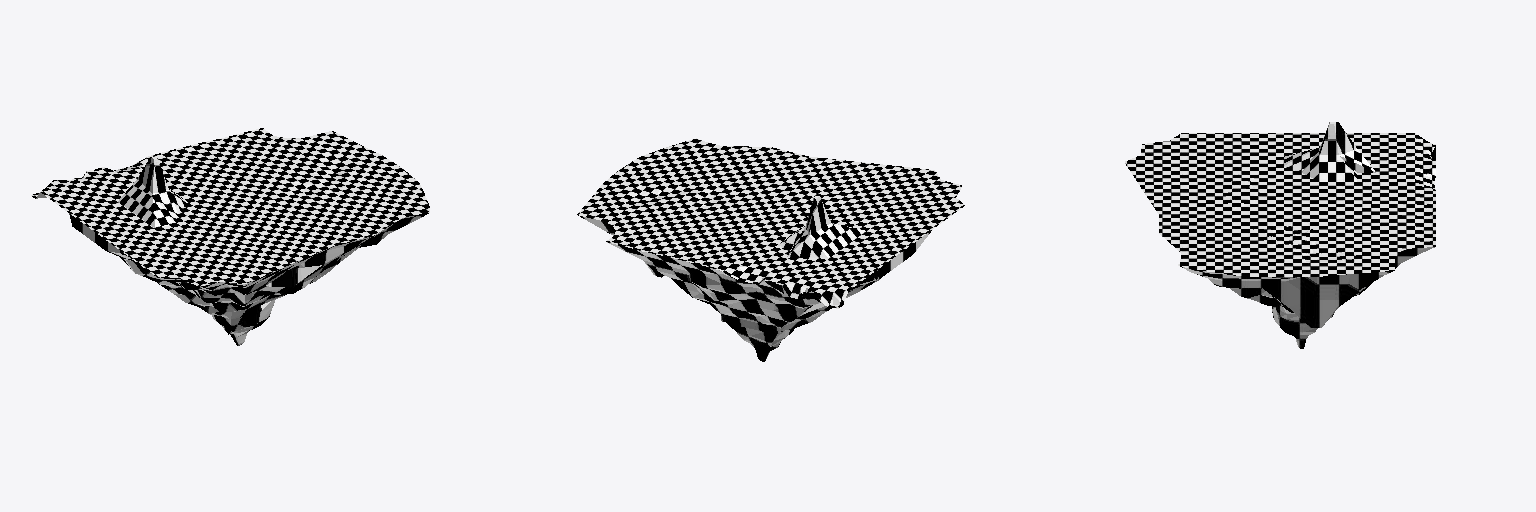
3 renders of one model, left to right at view 1: azimuth 30°, elevation 25°; view 2: azimuth 150°, elevation 25°; view 3: azimuth 270°, elevation 25°, orthographic.
Parts seen in each view (by area): view 1: Box001; view 2: Box001; view 3: Box001.
Boxes of the visible parts, x1=… form: Box001: x1=31, y1=128, x2=429, y2=345; Box001: x1=577, y1=138, x2=964, y2=361; Box001: x1=1125, y1=122, x2=1435, y2=348.
Bounding box in the file's own units: 723 × 450 × 658.
Materials: 1 (1 with a texture image).